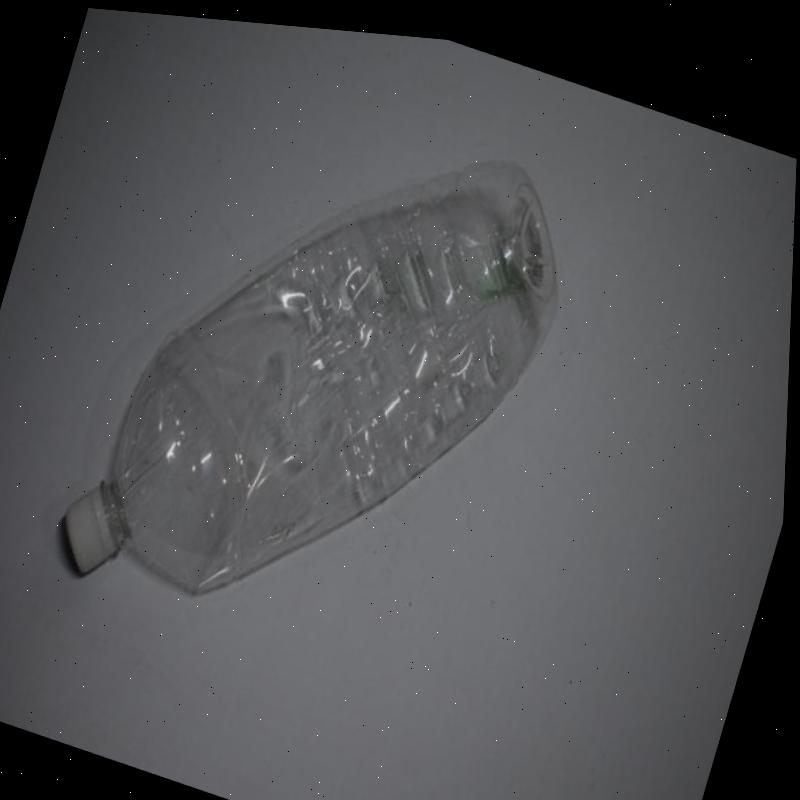botella: (44, 35, 597, 708)
